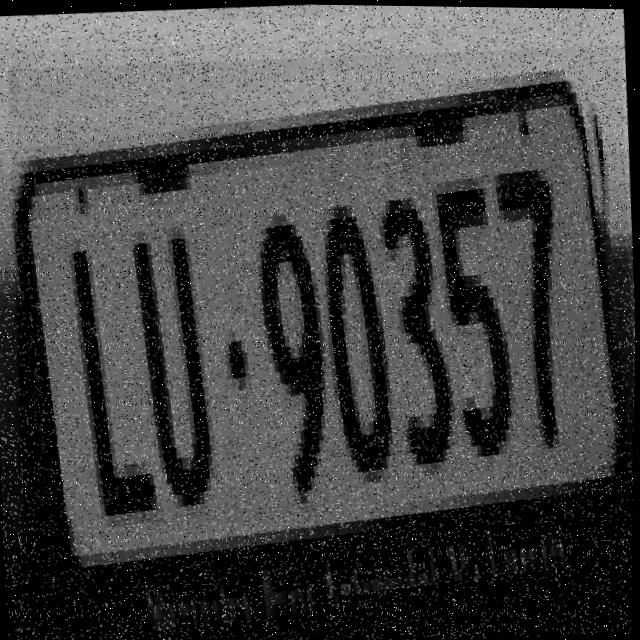LicensePlate: (1, 36, 640, 640)
